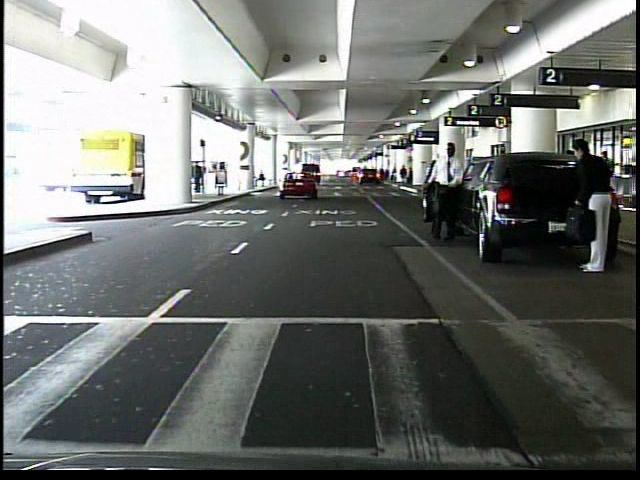person: (561, 136, 611, 275), (425, 140, 456, 240), (192, 160, 205, 196), (399, 165, 410, 188)
